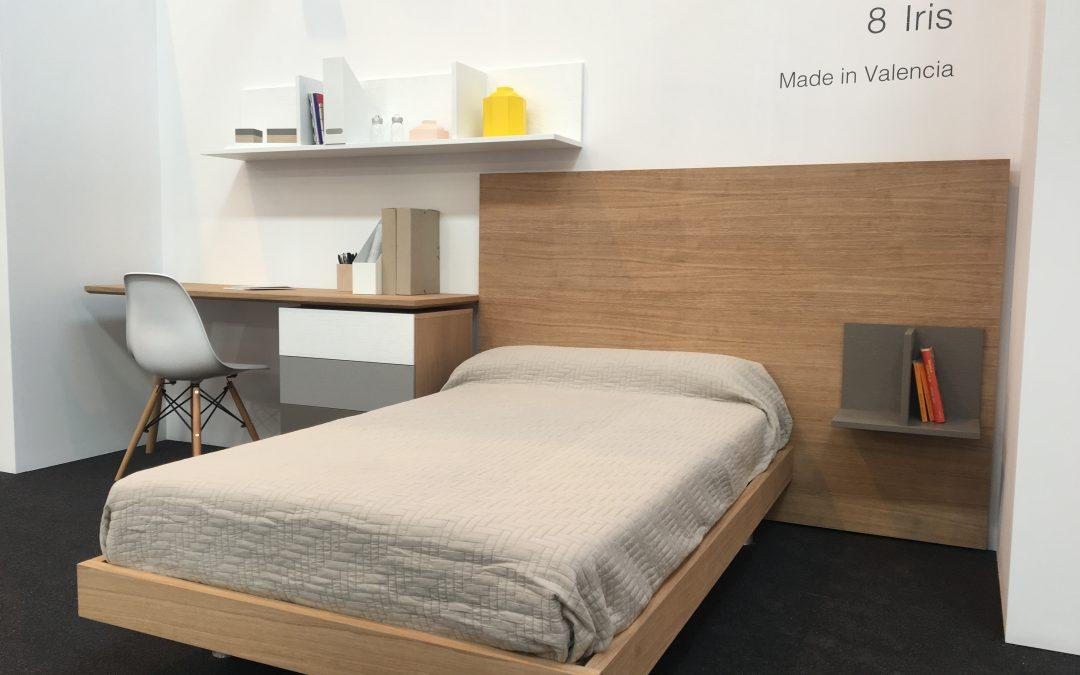bed: (342, 323, 810, 648)
